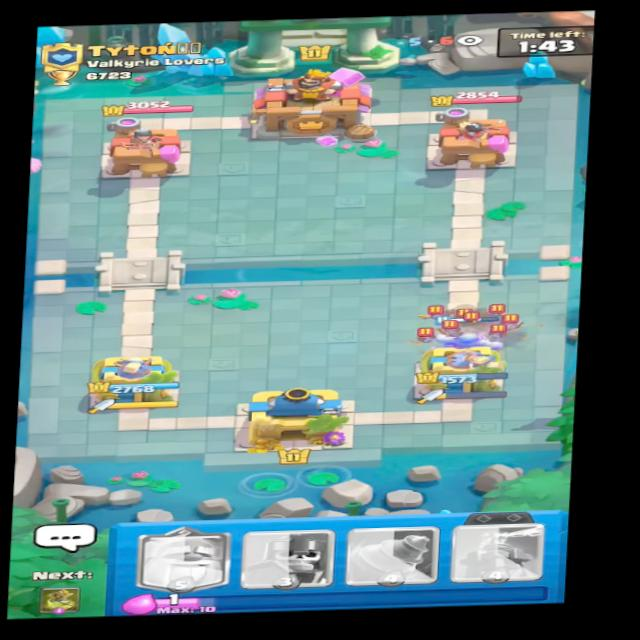bats: (419, 301, 453, 321), (480, 321, 517, 339), (497, 314, 532, 332), (415, 325, 444, 345), (482, 305, 506, 319)
